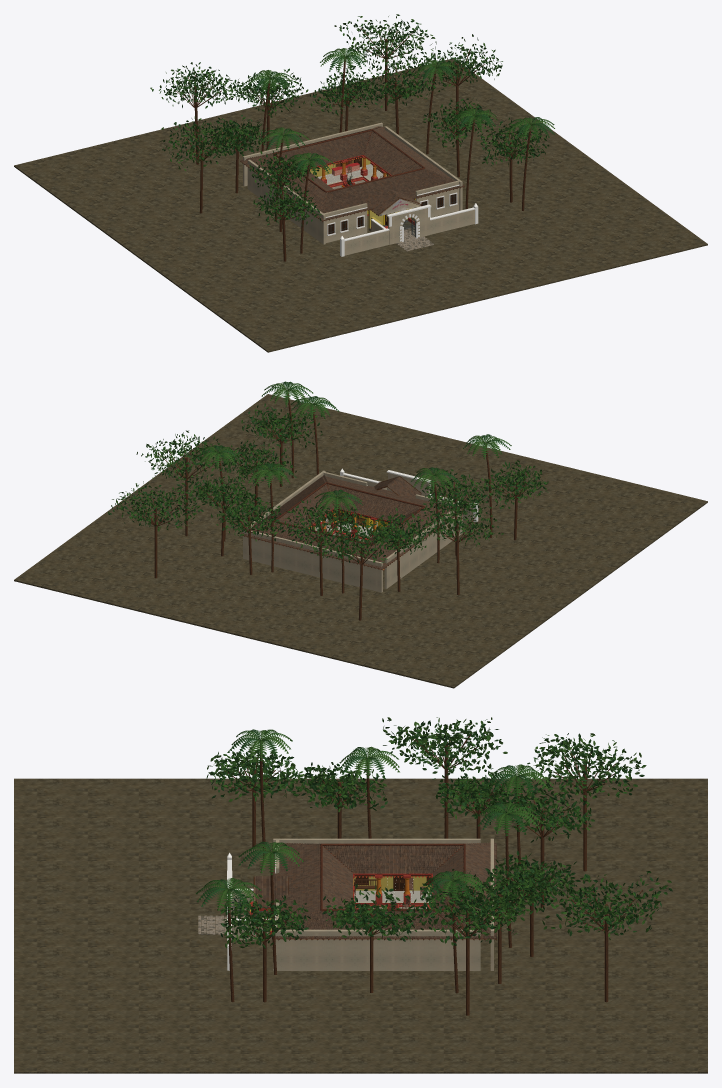
File: goan-house.glb
The picture shows the model from 3 angles, top to bottom: view 1: azimuth 30°, elevation 25°; view 2: azimuth 150°, elevation 25°; view 3: azimuth 270°, elevation 25°; orthographic projection. The views are drawn at different scales.
Visible parts, largest first — view 1: earth, cream, leaf0, wood, leaf2, leaf3, leaf1, leaf5, leaf4, roof0, roof7, roof4 (+9 smaller); view 2: earth, cream, leaf2, wood, leaf0, leaf1, leaf4, leaf3, leaf5, roof4, roof2, roof0 (+6 smaller); view 3: earth, leaf2, cream, leaf0, leaf5, leaf3, leaf4, wood, leaf1, roof2, roof0, roof7 (+8 smaller).
Part boxes in pixels (bbox=[...]): earth: bbox=[14, 58, 707, 352]; cream: bbox=[243, 122, 474, 255]; leaf0: bbox=[166, 16, 553, 224]; wood: bbox=[176, 28, 531, 261]; leaf2: bbox=[150, 16, 554, 220]; leaf3: bbox=[150, 20, 554, 223]; leaf1: bbox=[159, 14, 546, 226]; leaf5: bbox=[160, 16, 549, 225]; leaf4: bbox=[159, 16, 542, 223]; roof0: bbox=[244, 127, 463, 219]; roof7: bbox=[240, 126, 454, 219]; roof4: bbox=[244, 127, 452, 216]; earth: bbox=[14, 394, 707, 688]; cream: bbox=[243, 470, 473, 592]; leaf2: bbox=[108, 381, 543, 561]; wood: bbox=[130, 393, 528, 620]; leaf0: bbox=[118, 383, 547, 560]; leaf1: bbox=[111, 385, 548, 562]; leaf4: bbox=[112, 388, 546, 560]; leaf3: bbox=[110, 381, 545, 562]; leaf5: bbox=[108, 382, 548, 562]; roof4: bbox=[252, 476, 458, 567]; roof2: bbox=[245, 476, 462, 565]; roof0: bbox=[256, 476, 462, 565]; earth: bbox=[14, 778, 707, 1073]; leaf2: bbox=[196, 717, 671, 948]; cream: bbox=[227, 838, 493, 970]; leaf0: bbox=[196, 717, 660, 946]; leaf5: bbox=[197, 720, 672, 945]; leaf3: bbox=[201, 719, 661, 945]; leaf4: bbox=[207, 718, 667, 945]; wood: bbox=[225, 732, 642, 1015]; leaf1: bbox=[204, 718, 667, 948]; roof2: bbox=[255, 843, 496, 938]; roof0: bbox=[258, 844, 496, 938]; roof7: bbox=[255, 842, 496, 938].
Bounding box in the file's own units: 65 × 14.7 × 65.
51 materials, 38 textured.
